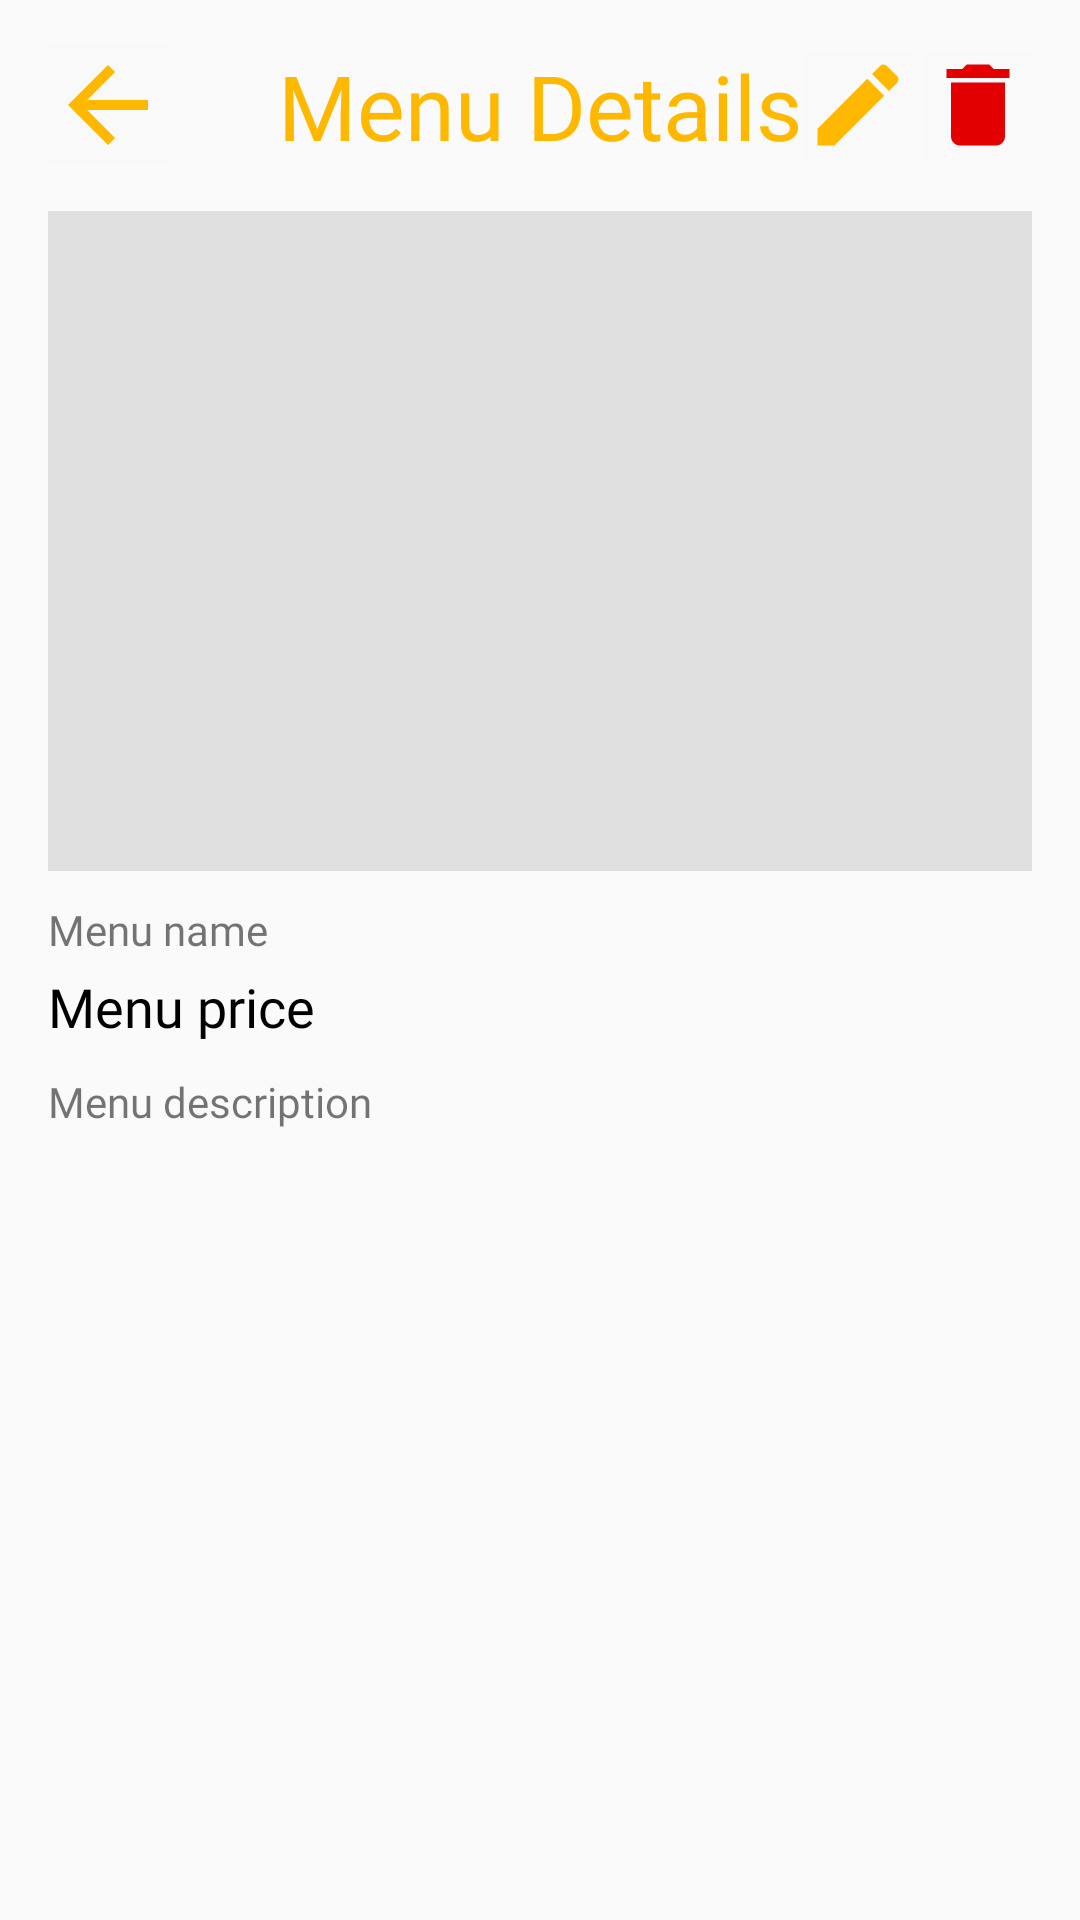

Named icons in this screenshot (1080x1920) and their bounding boxes, (x1, y1, x2, y2):
back: (68, 65, 148, 145)
delete: (946, 64, 1010, 146)
edit: (817, 64, 899, 146)
